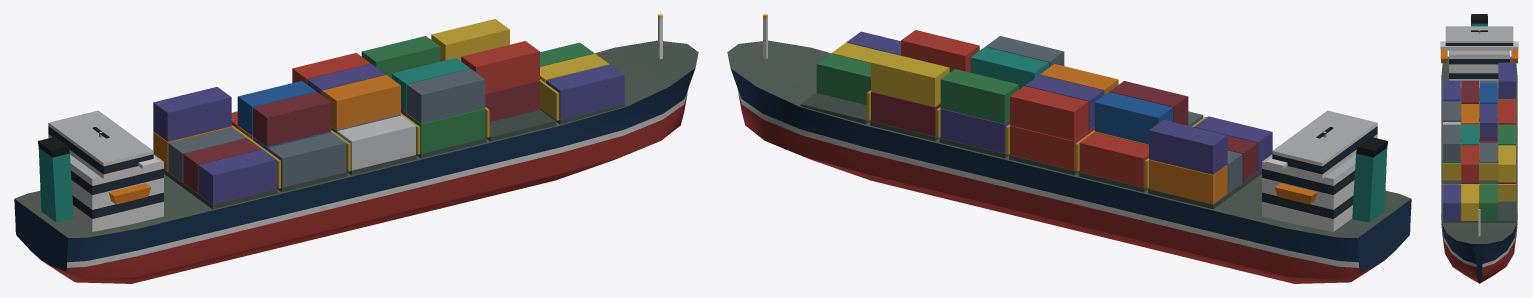
The model's file is ship.glb.
3 views of the same model, side by side, from view 1: azimuth 30°, elevation 25°; view 2: azimuth 150°, elevation 25°; view 3: azimuth 270°, elevation 25° (orthographic). The views are drawn at different scales.
Parts seen in each view (by area): view 1: Ship; view 2: Ship; view 3: Ship.
Boxes of the visible parts, <box> form: Ship: <box>14,14,698,283</box>; Ship: <box>727,14,1411,283</box>; Ship: <box>1440,14,1518,283</box>.
Size of the model in its own units: 60 by 12 by 10.2.
